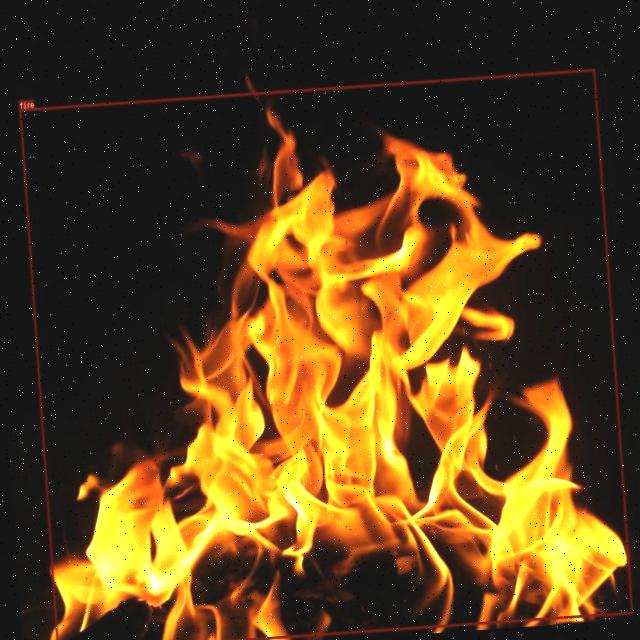fire: (18, 67, 632, 640)
